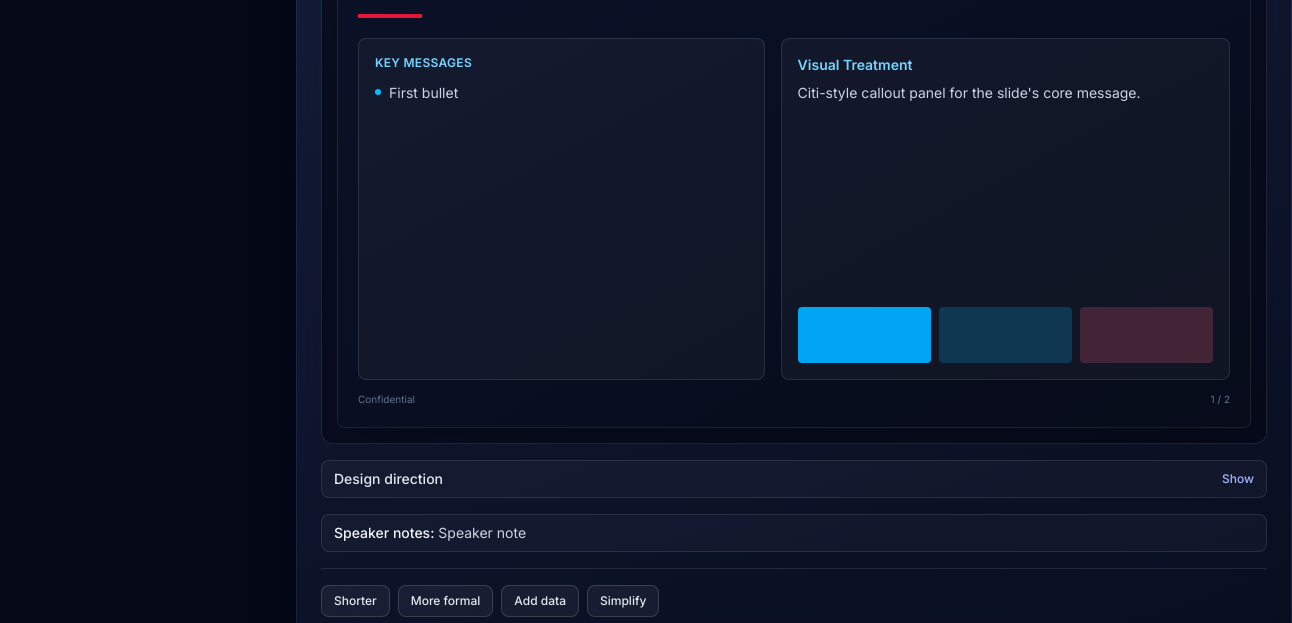
it: PreviewPage › shows design direction only after expanding the panel
(page scrolled)
Expected: the text "right-side trend visual" is not shown
Click the button "Design direction Show" at (389, 479), box top-left (322, 461), bottom-right (1266, 497)
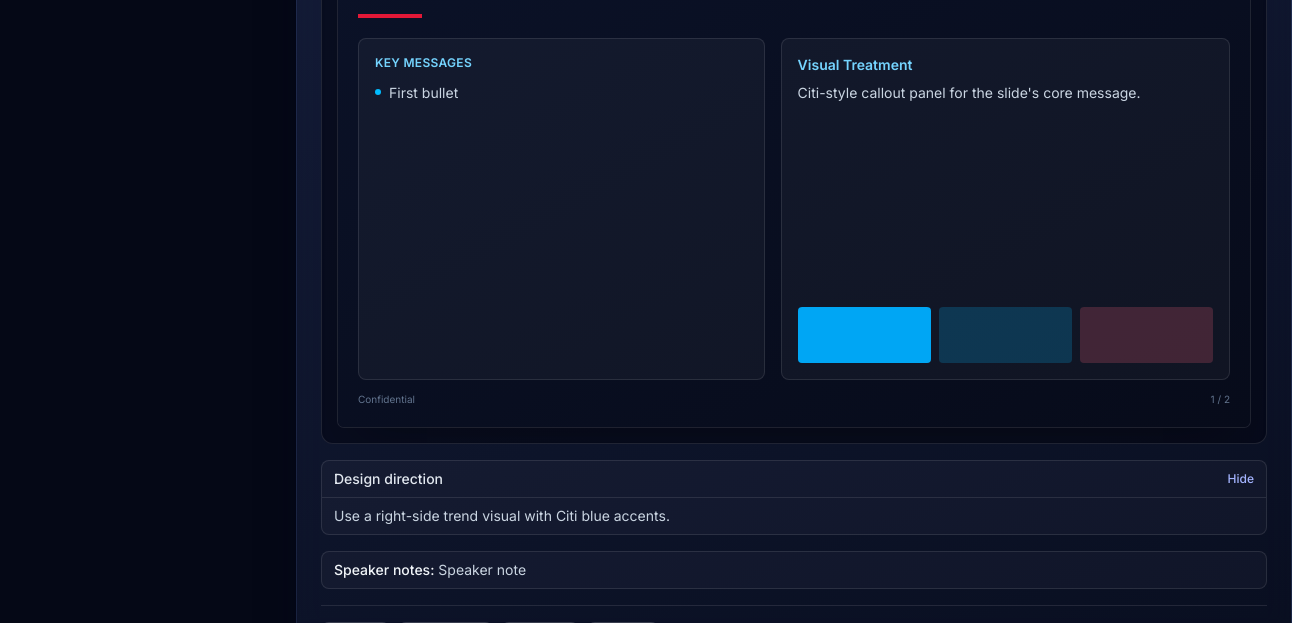
Expected: the text "Use a right-side trend visual with Citi blue accents." is shown, top-left (322, 497), bottom-right (1266, 534)
